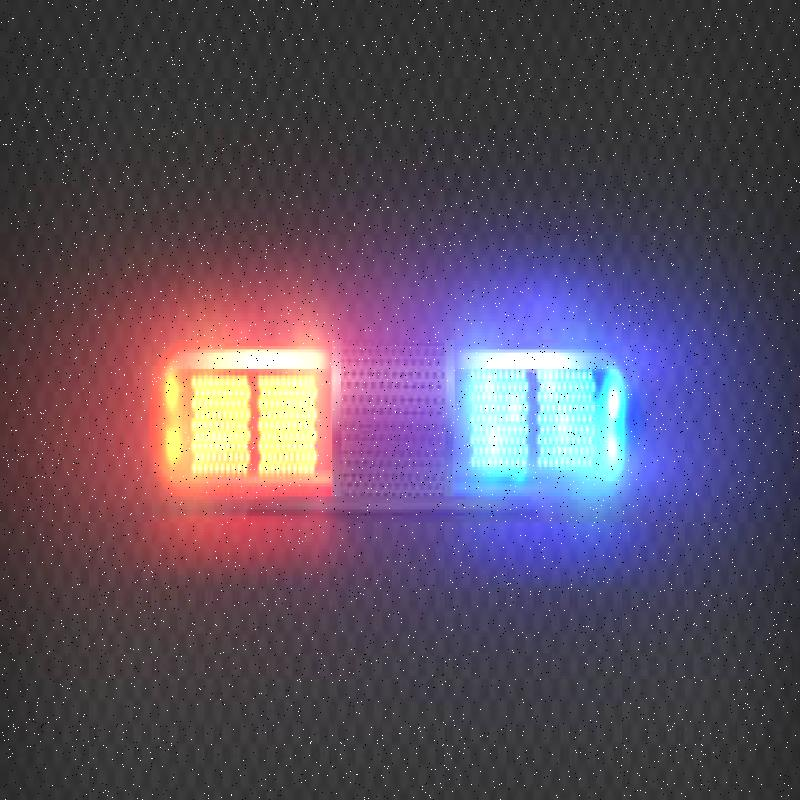AmbulanceSiren: (133, 328, 645, 548)
